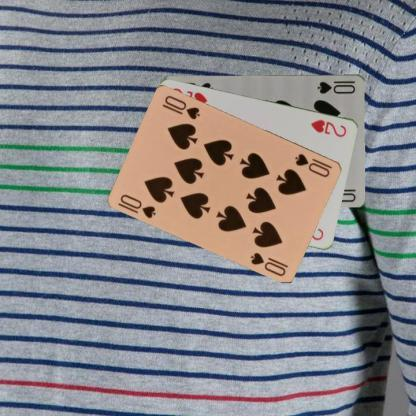10s: (292, 150, 334, 178), (118, 191, 158, 220), (315, 78, 357, 95)
2h: (308, 117, 348, 138)
